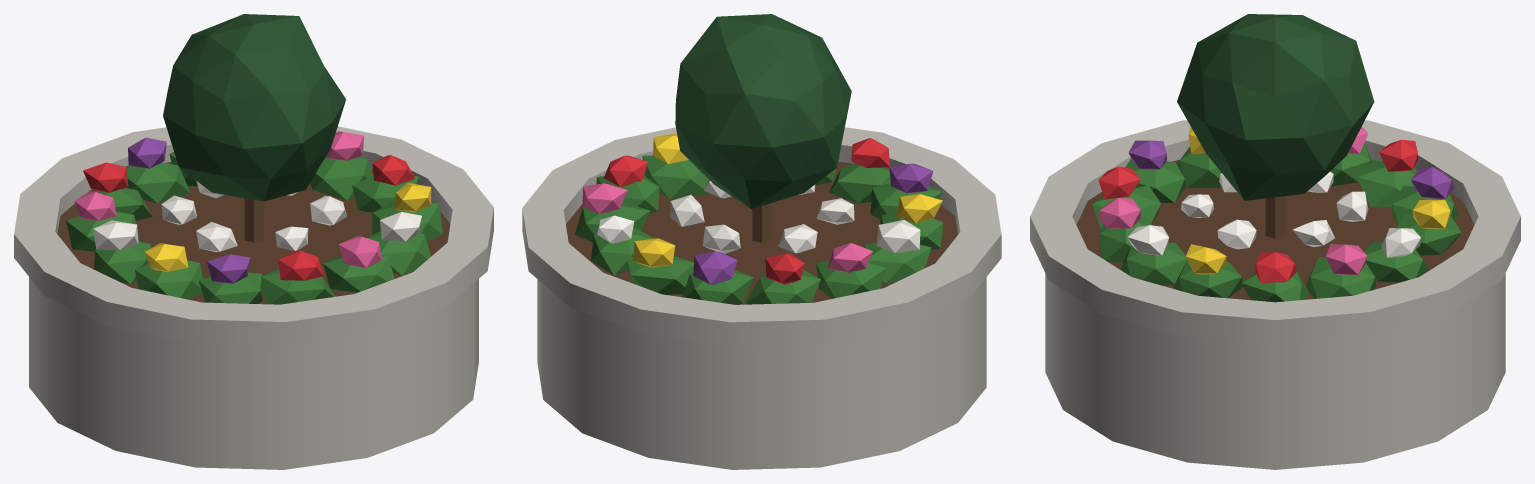
Rendered from canteiro_redondo.glb.
3 renders of one model, left to right at view 1: azimuth 30°, elevation 25°; view 2: azimuth 150°, elevation 25°; view 3: azimuth 270°, elevation 25°, orthographic.
Parts seen in each view (by area): view 1: canteiro_redondo; view 2: canteiro_redondo; view 3: canteiro_redondo.
Part boxes in pixels (<box>): canteiro_redondo: <box>14,14,493,469</box>; canteiro_redondo: <box>522,14,1001,469</box>; canteiro_redondo: <box>1030,14,1520,469</box>.
Size of the model in its own units: 1.28 by 1.02 by 1.28.
